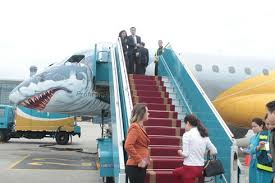maybay_dansu: (12, 47, 275, 126)
